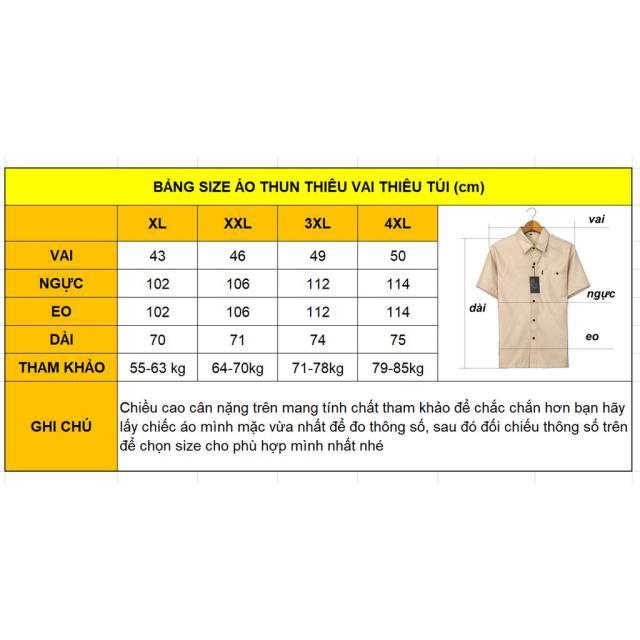Shirt: (478, 235, 593, 372)
